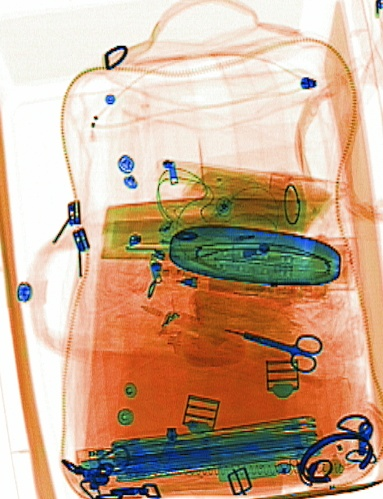scissors: (221, 325, 322, 374)
